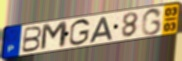8: (121, 12, 139, 39)
A: (89, 16, 114, 44)
B: (20, 25, 44, 54)
G: (140, 7, 164, 36), (68, 18, 91, 47)
M: (39, 20, 69, 52)
